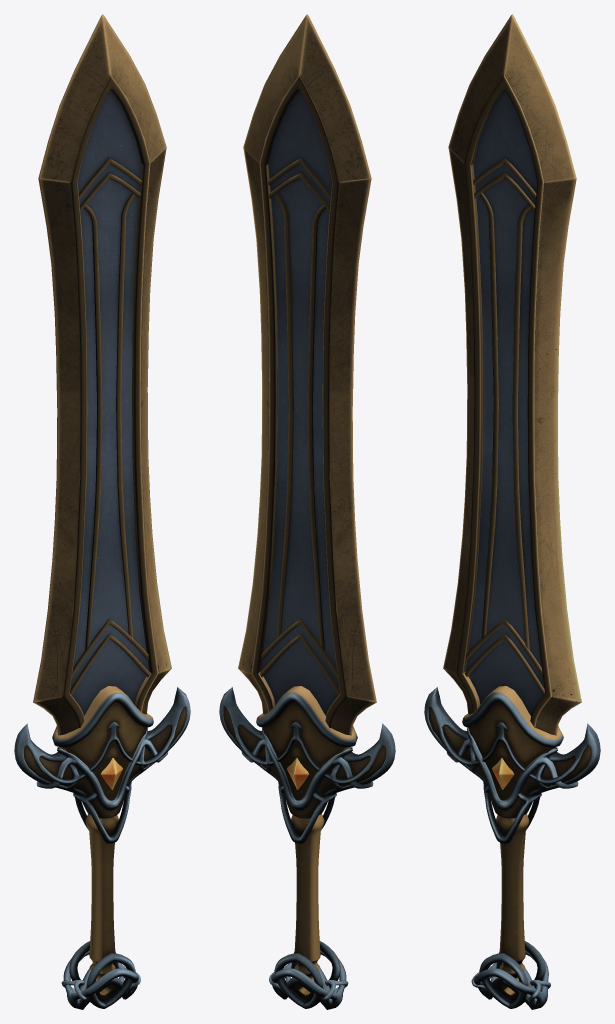
The model's file is sm_sword_203.gltf.
3 views of the same model, side by side, from view 1: azimuth 30°, elevation 25°; view 2: azimuth 150°, elevation 25°; view 3: azimuth 330°, elevation 25° (orthographic).
Parts seen in each view (by area): view 1: sm_sword_203; view 2: sm_sword_203; view 3: sm_sword_203.
Boxes of the visible parts, left/top/right/bottom form: sm_sword_203: left=14, top=14, right=190, bottom=1009; sm_sword_203: left=219, top=14, right=395, bottom=1009; sm_sword_203: left=424, top=14, right=600, bottom=1009.
Bounding box in the file's own units: 0.2784 × 1.52 × 0.0958.
1 material, 1 textured.
